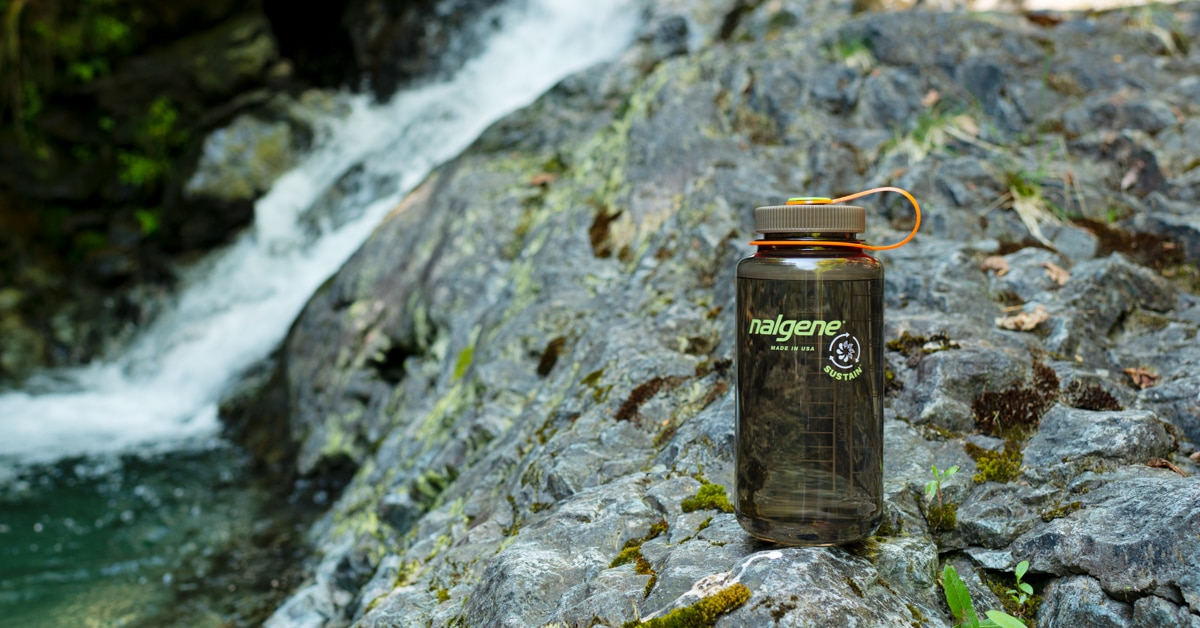bottle: (734, 186, 920, 550)
